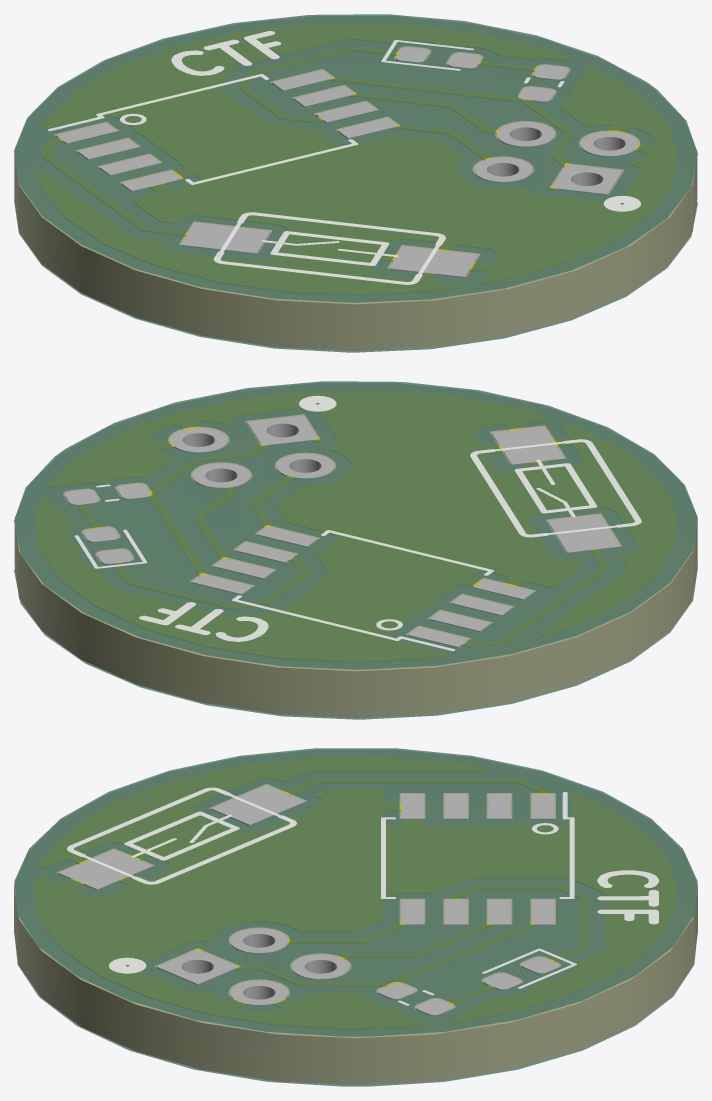
The model's file is ctf-shitty-add-on.glb.
3 views of the same model, one above another, from view 1: azimuth 30°, elevation 25°; view 2: azimuth 150°, elevation 25°; view 3: azimuth 270°, elevation 25° (orthographic).
Visible parts, largest first — view 1: =>[0:1:1:6], =>[0:1:1:2], =>[0:1:1:8], =>[0:1:1:4]; view 2: =>[0:1:1:6], =>[0:1:1:2], =>[0:1:1:8], =>[0:1:1:4]; view 3: =>[0:1:1:6], =>[0:1:1:2], =>[0:1:1:8], =>[0:1:1:4].
Boxes of the visible parts, left/top/right/bottom form: =>[0:1:1:6]: left=14, top=14, right=697, bottom=352; =>[0:1:1:2]: left=36, top=23, right=676, bottom=294; =>[0:1:1:8]: left=14, top=16, right=697, bottom=351; =>[0:1:1:4]: left=48, top=31, right=640, bottom=284; =>[0:1:1:6]: left=14, top=381, right=697, bottom=719; =>[0:1:1:2]: left=35, top=390, right=676, bottom=662; =>[0:1:1:8]: left=14, top=383, right=697, bottom=718; =>[0:1:1:4]: left=74, top=395, right=641, bottom=650; =>[0:1:1:6]: left=14, top=748, right=697, bottom=1086; =>[0:1:1:2]: left=34, top=757, right=677, bottom=1029; =>[0:1:1:8]: left=14, top=750, right=697, bottom=1085; =>[0:1:1:4]: left=67, top=787, right=658, bottom=1005.
Bounding box in the file's own units: 0.0199 × 0.00166 × 0.02.
4 materials, 4 textured.
